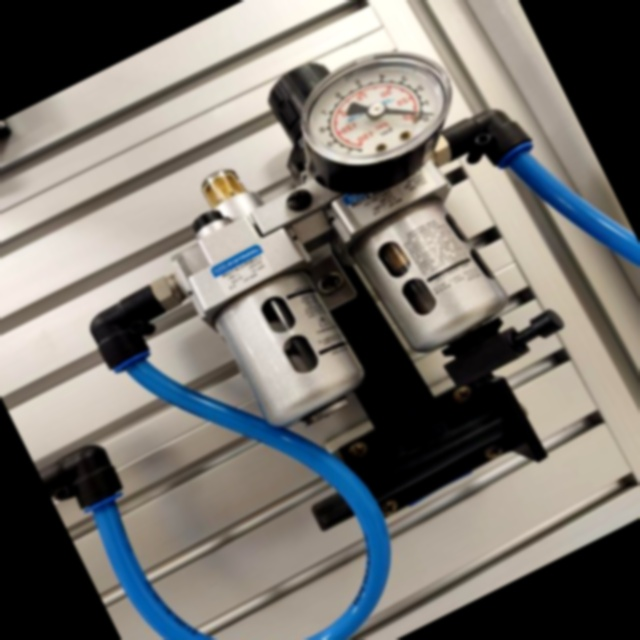FRL unit: (41, 0, 640, 612)
push button: (271, 22, 483, 217)
